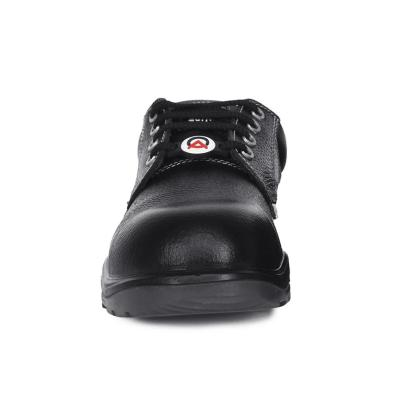bota: (96, 94, 298, 324)
